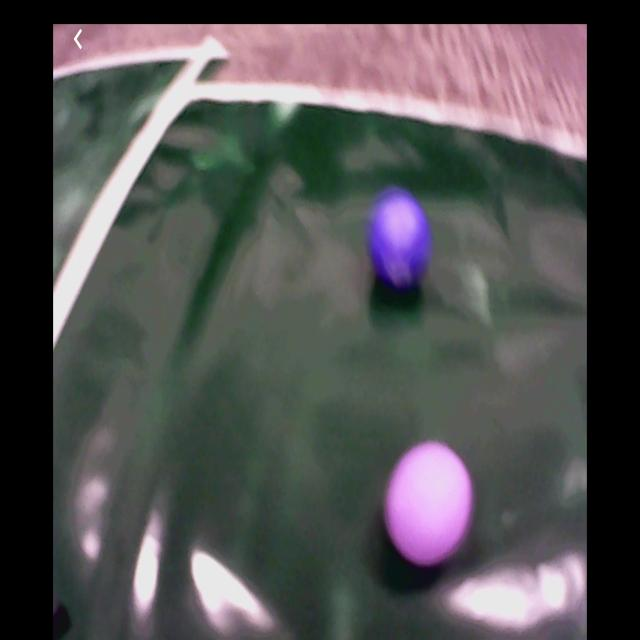ball: (384, 441, 473, 570), (370, 192, 431, 289)
